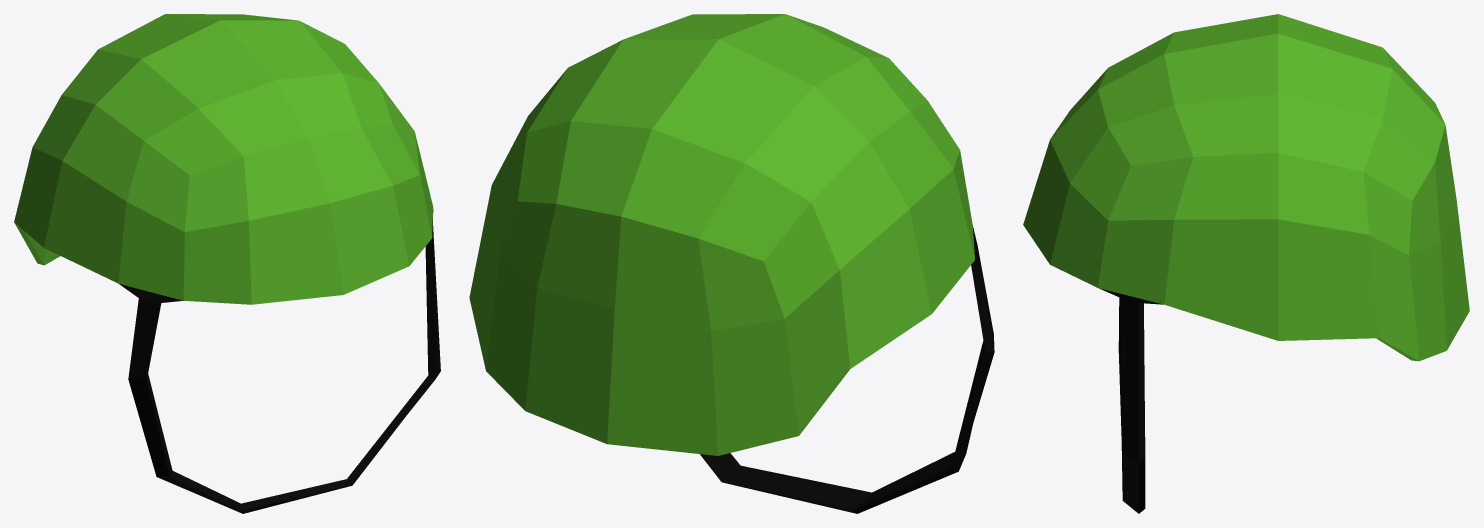
File: tete_militaire 2.FBX
3 views of the same model, side by side, from view 1: azimuth 30°, elevation 25°; view 2: azimuth 150°, elevation 25°; view 3: azimuth 270°, elevation 25° (orthographic). The views are drawn at different scales.
Parts seen in each view (by area): view 1: Box021; view 2: Box021; view 3: Box021.
Part boxes in pixels (x1,y1,x2,y2): Box021: [14, 14, 440, 513]; Box021: [469, 14, 994, 513]; Box021: [1023, 14, 1469, 513].
Size of the model in its own units: 65.17 by 76.24 by 68.95.
